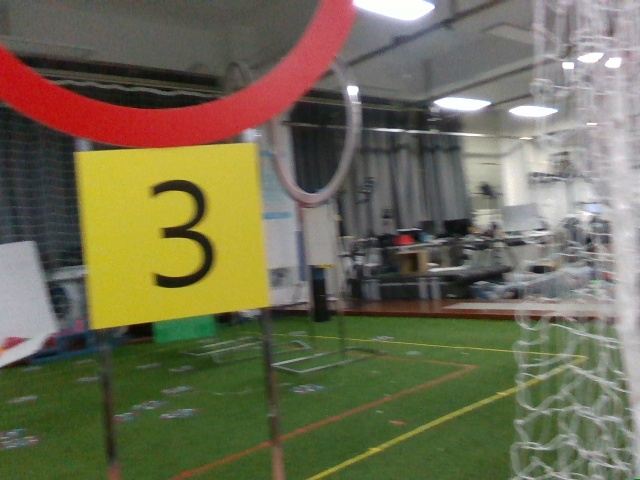target: (83, 152, 258, 306)
